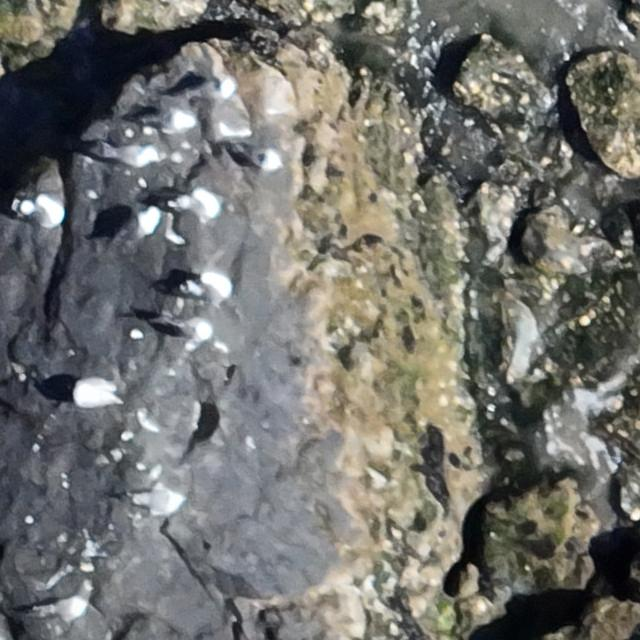umineko: (21, 195, 66, 229), (185, 273, 232, 300), (126, 207, 156, 246), (70, 379, 118, 402), (176, 190, 218, 216), (134, 489, 181, 512), (240, 145, 284, 169), (188, 76, 234, 98), (51, 599, 88, 623), (114, 146, 158, 165), (154, 110, 193, 131)
